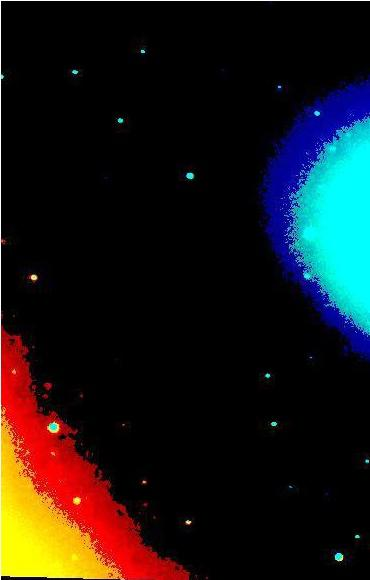star: (72, 121, 102, 151)
